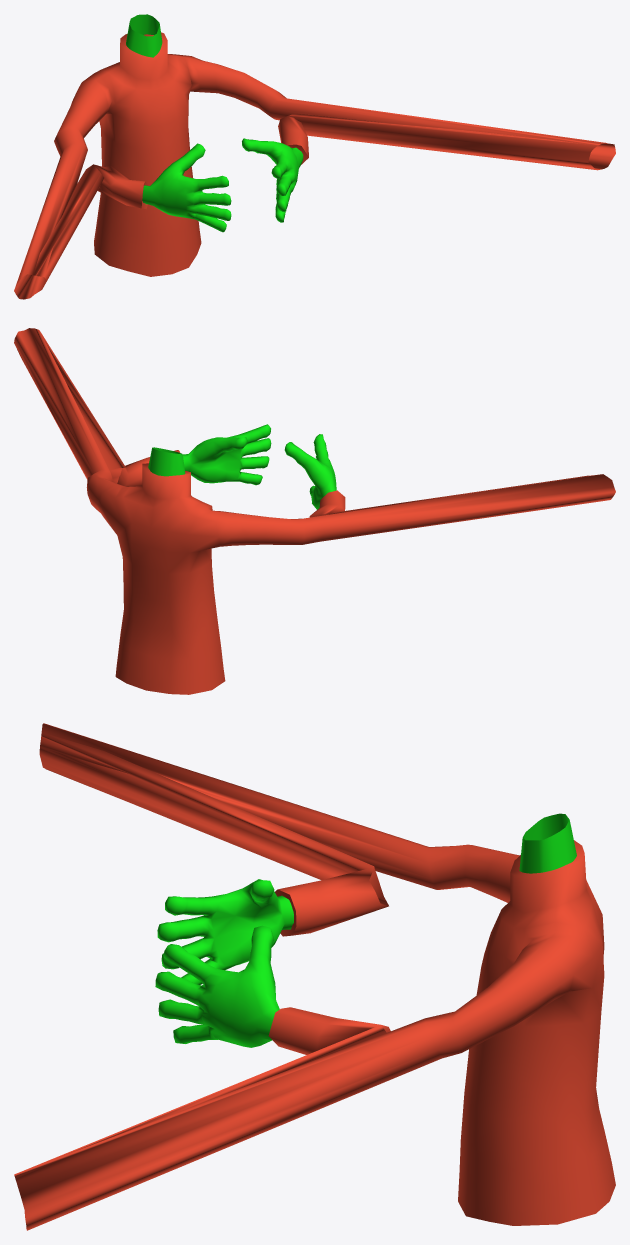
The model's file is ust1.fbx.
3 views of the same model, one above another, from view 1: azimuth 30°, elevation 25°; view 2: azimuth 150°, elevation 25°; view 3: azimuth 270°, elevation 25° (orthographic). The views are drawn at different scales.
Visible parts, largest first — view 1: Kollar; view 2: Kollar; view 3: Kollar.
Part boxes in pixels (x1=…): Kollar: x1=14, y1=14, x2=615, y2=299; Kollar: x1=14, y1=328, x2=615, y2=694; Kollar: x1=14, y1=723, x2=615, y2=1230.
Size of the model in its own units: 17509 by 6576 by 9399.
